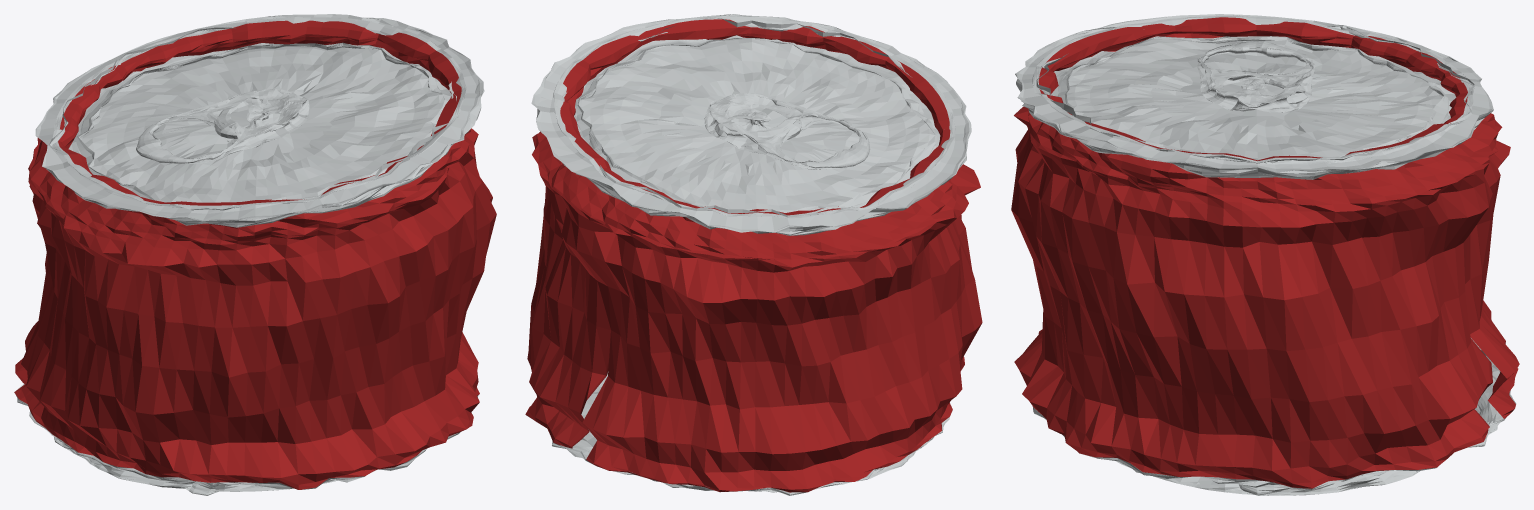
The model's file is crush_high_0.obj.
3 views of the same model, side by side, from view 1: azimuth 30°, elevation 25°; view 2: azimuth 150°, elevation 25°; view 3: azimuth 270°, elevation 25° (orthographic). The views are drawn at different scales.
Parts seen in each view (by area): view 1: model; view 2: model; view 3: model.
Part boxes in pixels (x1,y1,x2,y2): model: (14, 14, 496, 495); model: (525, 14, 982, 495); model: (1011, 14, 1519, 495).
Bounding box in the file's own units: 0.0647 × 0.0504 × 0.0667.
Materials: 1 (1 with a texture image).
